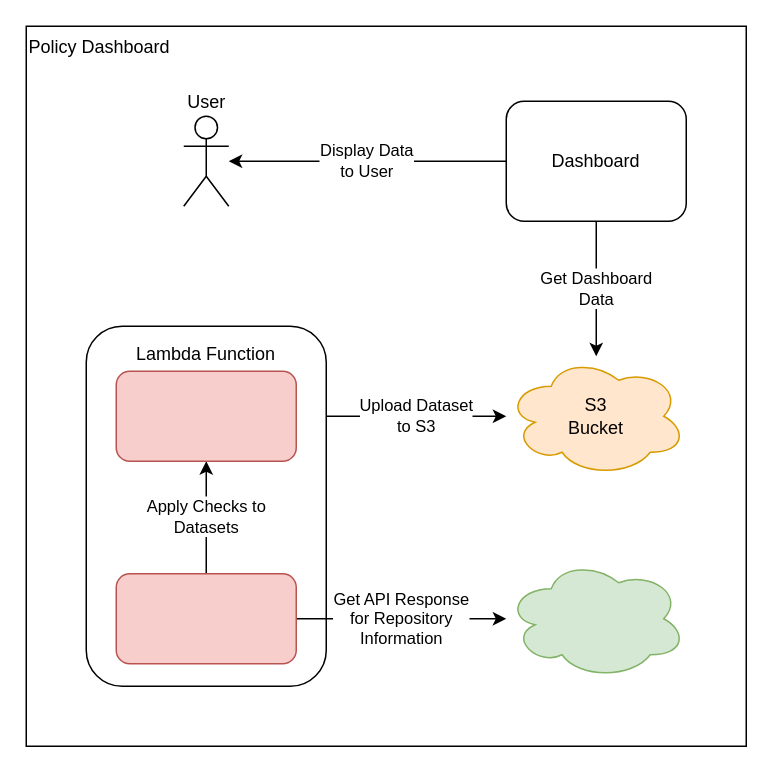
The diagram is 773 pixels wide and 773 high, and some of its shapes have lost their labels. Here are the shapes that lost their labels. From the top down, the centre of each, then its label:
At [205,415]: "policy_checks.py".
At [205,618]: "GitHub API Toolkit (Imported)".
At [595,618]: "GitHub API".
